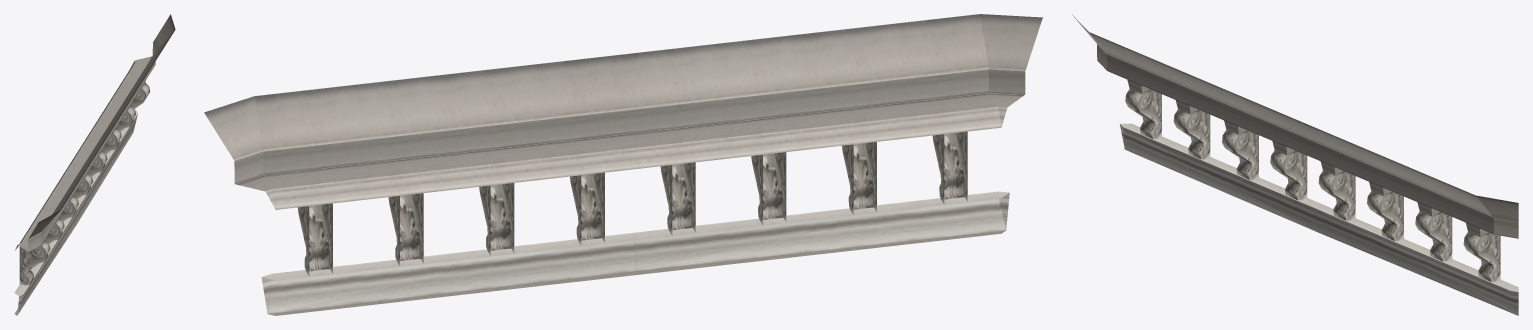
Rendered from WallRooflineDiag2B.fbx.
The picture shows the model from 3 angles, left to right: view 1: azimuth 30°, elevation 25°; view 2: azimuth 150°, elevation 25°; view 3: azimuth 270°, elevation 25°; orthographic projection. The views are drawn at different scales.
Visible parts, largest first — view 1: WallRooflineDiag2B; view 2: WallRooflineDiag2B; view 3: WallRooflineDiag2B.
Part boxes in pixels (x1,y1,x2,y2): WallRooflineDiag2B: (14, 14, 175, 315); WallRooflineDiag2B: (204, 14, 1042, 315); WallRooflineDiag2B: (1072, 15, 1518, 315).
Size of the model in its own units: 260 by 86.98 by 260.
